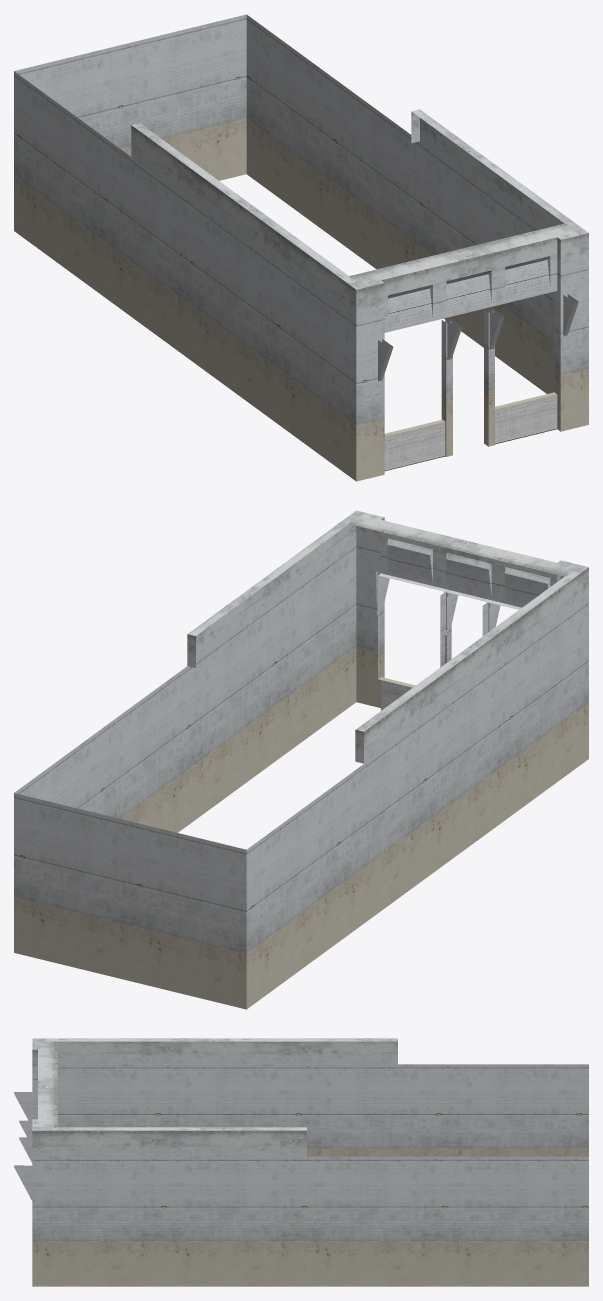
The model's file is rural_storesmall_3_rural_midcity_walls_flr_1_0_lev2.glb.
3 views of the same model, one above another, from view 1: azimuth 30°, elevation 25°; view 2: azimuth 150°, elevation 25°; view 3: azimuth 270°, elevation 25° (orthographic). The views are drawn at different scales.
Parts seen in each view (by area): view 1: rural_storesmall_3_rural_midcity_walls_flr_1_0_lev2; view 2: rural_storesmall_3_rural_midcity_walls_flr_1_0_lev2; view 3: rural_storesmall_3_rural_midcity_walls_flr_1_0_lev2.
Boxes of the visible parts, x1,y1,x2,y2 form: rural_storesmall_3_rural_midcity_walls_flr_1_0_lev2: (14,14,588,481); rural_storesmall_3_rural_midcity_walls_flr_1_0_lev2: (14,510,588,1009); rural_storesmall_3_rural_midcity_walls_flr_1_0_lev2: (14,1038,588,1286).
Bounding box in the file's own units: 4.48 × 3.53 × 11.78.
1 material, 1 textured.
